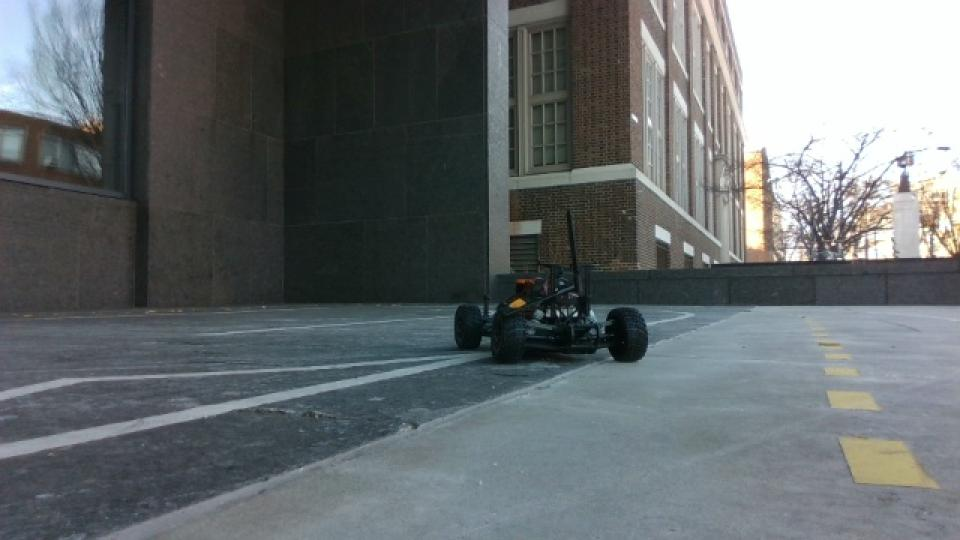car: (450, 207, 650, 366)
